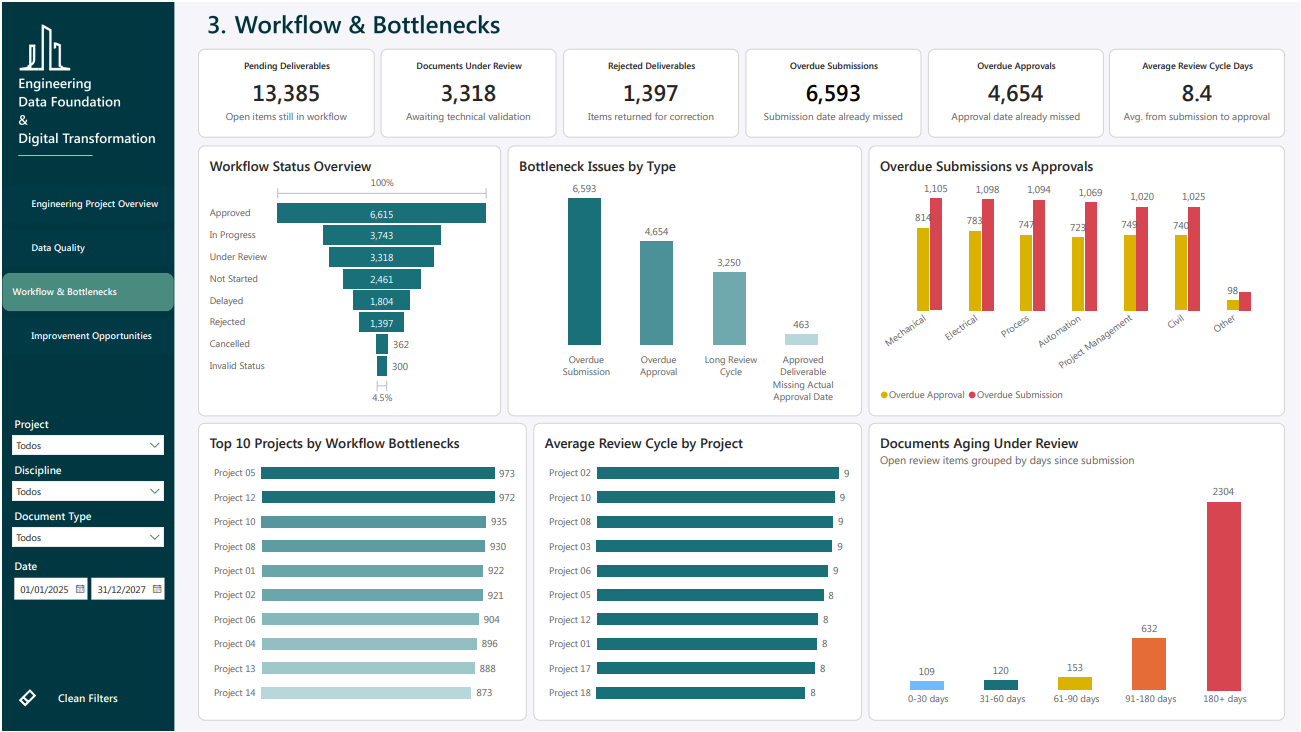

The dashboard page shown, as its layout file describes it:
{"tool":"powerbi","page":{"name":"Workflow & Bottlenecks","canvas":[1920,1080],"ordinal":3},"visuals":[{"type":"pageNavigator","box":[0,270,254,252],"z":0},{"type":"card","title":"Overdue Approvals","fields":{"Values":["Medidas.OverdueApprovalIssues"]},"box":[1369.9,68.9,260,131],"z":1000},{"type":"card","title":"Rejected Deliverables","fields":{"Values":["Medidas.RejectedDeliverables"]},"box":[829.9,68.9,260,131],"z":2000},{"type":"card","title":"Overdue Submissions","fields":{"Values":["Medidas.OverdueSubmissionIssues"]},"box":[1099.9,68.9,260,131],"z":3000},{"type":"card","title":"Average Review Cycle Days","fields":{"Values":["Medidas.AverageReviewCycleDays"]},"box":[1638,68.9,260,131],"z":4000},{"type":"card","title":"Pending Deliverables","fields":{"Values":["Medidas.PendingDeliverables"]},"box":[290,68.8,261.2,131.2],"z":5000},{"type":"card","title":"Documents Under Review","fields":{"Values":["Medidas.DocumentsUnderReview"]},"box":[559.9,68.9,260,131],"z":6000},{"type":"actionButton","box":[0,992.5,253.8,70],"z":7000},{"type":"slicer","fields":{"Values":["vw_deliverables_overview.discipline_name"]},"box":[0,680.1,254.2,68.3],"z":8000},{"type":"slicer","fields":{"Values":["vw_deliverables_overview.project_name"]},"box":[0,611.8,254.2,68.3],"z":9000},{"type":"slicer","fields":{"Values":["vw_deliverables_overview.document_type_name"]},"box":[0,748.5,254.2,68.3],"z":10000},{"type":"slicer","fields":{"Values":["dCalendar.Date"]},"box":[0,822.8,254,152],"z":12000},{"type":"clusteredColumnChart","title":"Bottleneck Issues by Type","fields":{"Category":["vw_data_quality_issue_rows.issue_type"],"Y":["Medidas.TotalDataQualityIssues"]},"box":[748,212,524,400],"z":13000},{"type":"clusteredBarChart","title":"Average Review Cycle by Project","fields":{"Y":["Medidas.AverageReviewCycleDays"],"Category":["vw_deliverables_overview.project_name"]},"box":[786,622,486,440],"z":14000},{"type":"clusteredColumnChart","title":"Overdue Submissions vs Approvals","fields":{"Y":["Medidas.TotalDataQualityIssues"],"Series":["vw_data_quality_issue_rows.issue_type"],"Category":["vw_deliverables_overview.discipline_name"]},"box":[1282,212,616,400],"z":15000},{"type":"funnel","title":"Workflow Status Overview","fields":{"Category":["vw_deliverables_overview.status_name"],"Y":["Medidas.TotalDeliverables"]},"box":[290,212,448,400],"z":16000},{"type":"clusteredBarChart","title":"Top 10 Projects by Workflow Bottlenecks","fields":{"Category":["vw_deliverables_overview.project_name"],"Y":["Medidas.TotalDataQualityIssues"]},"box":[290,622,486,440],"z":17000},{"type":"clusteredColumnChart","title":"Documents Aging Under Review","fields":{"Category":["vw_deliverables_overview.Review Aging Bucket"],"Y":["Medidas.DistinctDeliverables"]},"box":[1282,622,616,440],"z":18000}]}

Visuals, with their boxes on the page's 1920x1080 design canvas (x1, y1, x2, y2). These are canvas units, not pixel positions in the 1301x732 screenshot, which may show the page scaled, cropped or inside an application window:
pageNavigator: [left=0, top=270, right=254, bottom=522]
"Overdue Approvals" card: [left=1370, top=69, right=1630, bottom=200]
"Rejected Deliverables" card: [left=830, top=69, right=1090, bottom=200]
"Overdue Submissions" card: [left=1100, top=69, right=1360, bottom=200]
"Average Review Cycle Days" card: [left=1638, top=69, right=1898, bottom=200]
"Pending Deliverables" card: [left=290, top=69, right=551, bottom=200]
"Documents Under Review" card: [left=560, top=69, right=820, bottom=200]
actionButton: [left=0, top=992, right=254, bottom=1062]
slicer - vw_deliverables_overview.discipline_name: [left=0, top=680, right=254, bottom=748]
slicer - vw_deliverables_overview.project_name: [left=0, top=612, right=254, bottom=680]
slicer - vw_deliverables_overview.document_type_name: [left=0, top=748, right=254, bottom=817]
slicer - dCalendar.Date: [left=0, top=823, right=254, bottom=975]
"Bottleneck Issues by Type" clusteredColumnChart: [left=748, top=212, right=1272, bottom=612]
"Average Review Cycle by Project" clusteredBarChart: [left=786, top=622, right=1272, bottom=1062]
"Overdue Submissions vs Approvals" clusteredColumnChart: [left=1282, top=212, right=1898, bottom=612]
"Workflow Status Overview" funnel: [left=290, top=212, right=738, bottom=612]
"Top 10 Projects by Workflow Bottlenecks" clusteredBarChart: [left=290, top=622, right=776, bottom=1062]
"Documents Aging Under Review" clusteredColumnChart: [left=1282, top=622, right=1898, bottom=1062]
